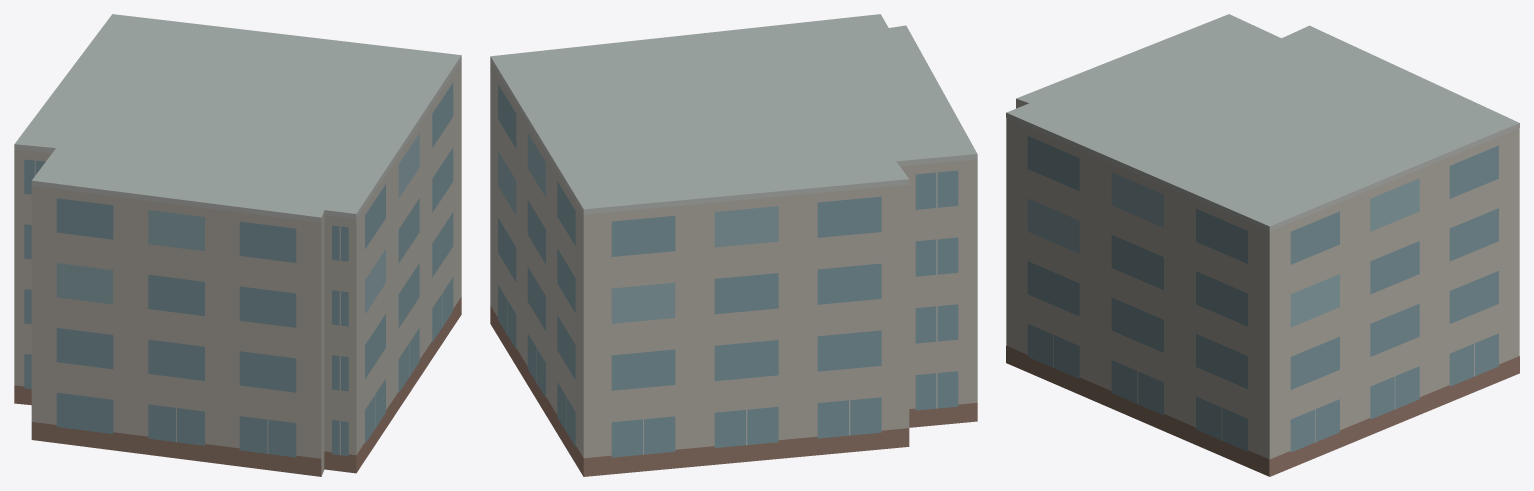
The model's file is survey-upis-32835739.glb.
The picture shows the model from 3 angles, left to right: view 1: azimuth 30°, elevation 25°; view 2: azimuth 150°, elevation 25°; view 3: azimuth 270°, elevation 25°; orthographic projection. The views are drawn at different scales.
Parts seen in each view (by area): view 1: survey-upis-32835739.tmp; view 2: survey-upis-32835739.tmp; view 3: survey-upis-32835739.tmp.
Part boxes in pixels (x1=…): survey-upis-32835739.tmp: x1=14, y1=14, x2=461, y2=476; survey-upis-32835739.tmp: x1=490, y1=14, x2=977, y2=476; survey-upis-32835739.tmp: x1=1006, y1=14, x2=1519, y2=476.
Size of the model in its own units: 22.21 by 12.2 by 22.69.
